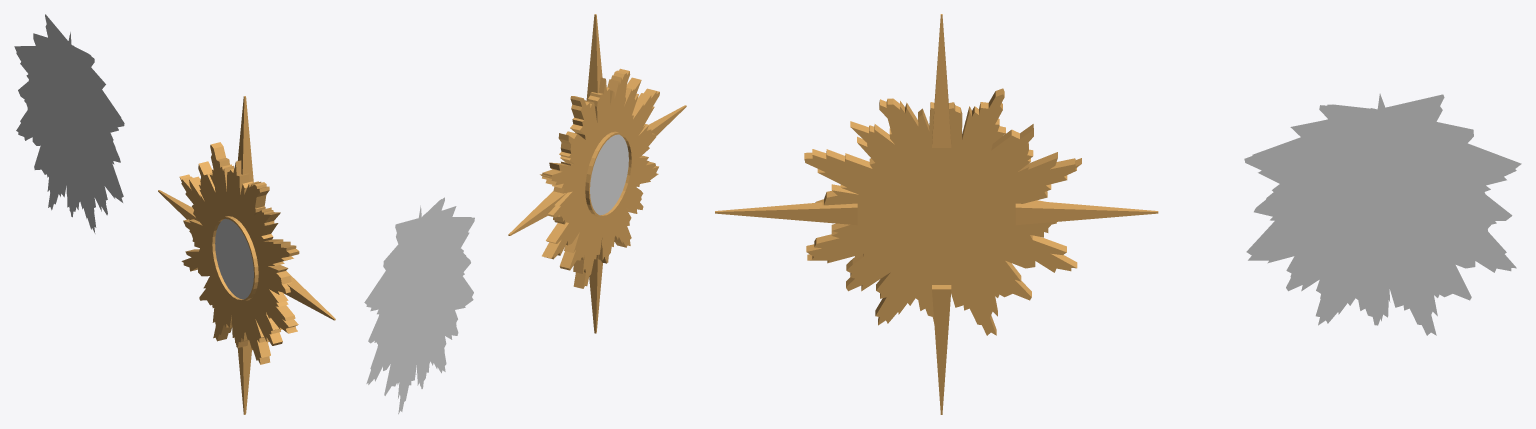
The model's file is Light Mirror (1).fbx.
The picture shows the model from 3 angles, left to right: view 1: azimuth 30°, elevation 25°; view 2: azimuth 150°, elevation 25°; view 3: azimuth 270°, elevation 25°; orthographic projection. The views are drawn at different scales.
Visible parts, largest first — view 1: Cube.002, Plane.002, Circle.002; view 2: Cube.002, Plane.002, Circle.002; view 3: Cube.002, Plane.002.
Boxes of the visible parts, bbox=[...] form: Cube.002: bbox=[158, 96, 335, 414]; Plane.002: bbox=[14, 14, 124, 233]; Circle.002: bbox=[215, 219, 253, 299]; Cube.002: bbox=[508, 14, 686, 333]; Plane.002: bbox=[364, 197, 474, 414]; Circle.002: bbox=[590, 134, 628, 215]; Cube.002: bbox=[715, 14, 1158, 414]; Plane.002: bbox=[1244, 93, 1521, 335].
Bounding box in the file's own units: 59.36 × 894 × 1634.
